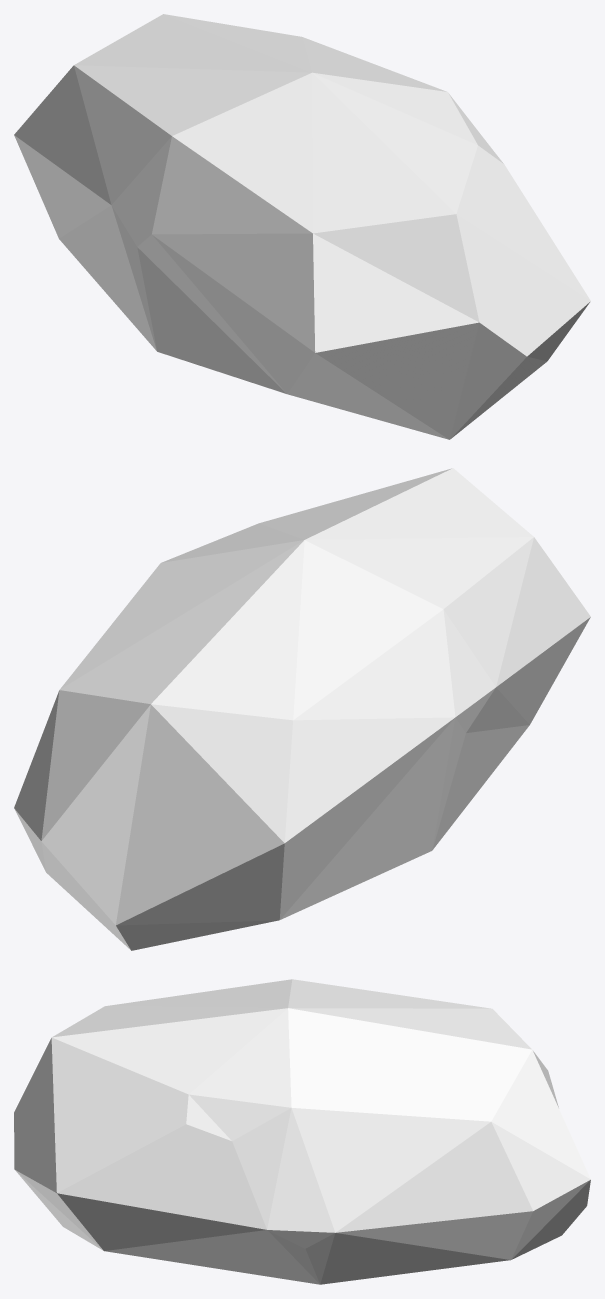
File: Crop_Potato_01.glb
The picture shows the model from 3 angles, top to bottom: view 1: azimuth 30°, elevation 25°; view 2: azimuth 150°, elevation 25°; view 3: azimuth 270°, elevation 25°; orthographic projection. The views are drawn at different scales.
Visible parts, largest first — view 1: Crop_Potato_01; view 2: Crop_Potato_01; view 3: Crop_Potato_01.
Boxes of the visible parts, x1,y1,x2,y2 form: Crop_Potato_01: (14, 14, 590, 439); Crop_Potato_01: (14, 468, 590, 950); Crop_Potato_01: (14, 979, 590, 1284).
Size of the model in its own units: 0.1319 by 0.1065 by 0.2157.
1 material, 1 textured.
